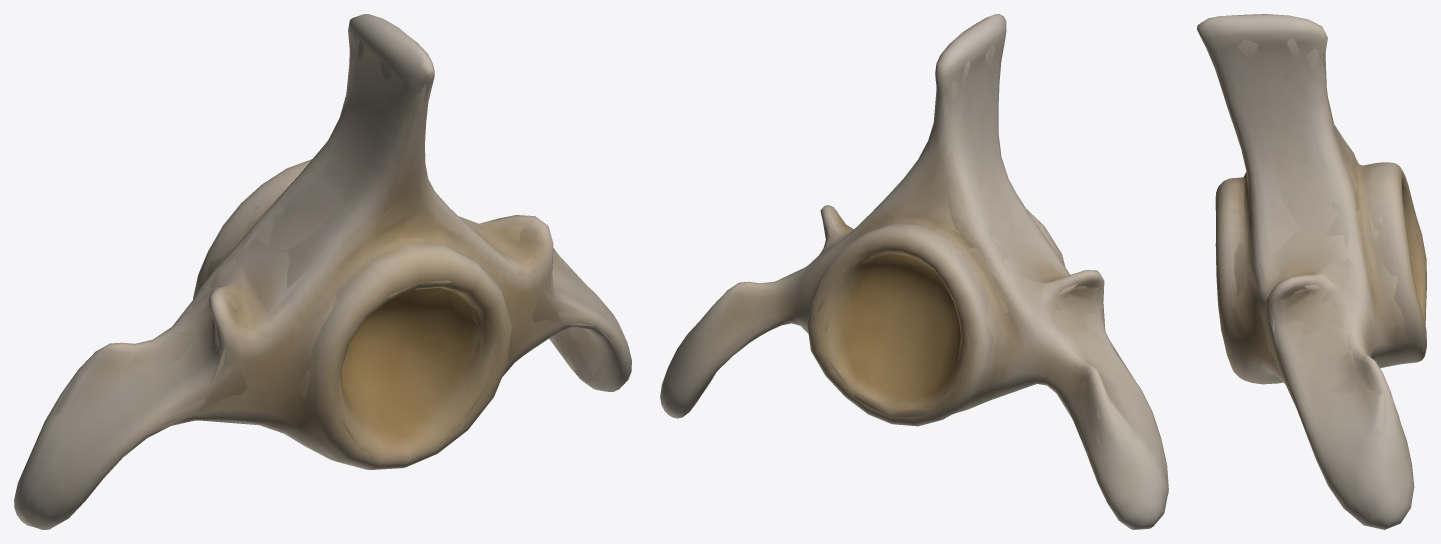
File: vertebrae lumbales 1.fbx
3 renders of one model, left to right at view 1: azimuth 30°, elevation 25°; view 2: azimuth 150°, elevation 25°; view 3: azimuth 270°, elevation 25°, orthographic. The views are drawn at different scales.
Parts seen in each view (by area): view 1: vertebrae lumbales 1, vertebrae lumbales 1 low; view 2: vertebrae lumbales 1, vertebrae lumbales 1 low; view 3: vertebrae lumbales 1, vertebrae lumbales 1 low.
Boxes of the visible parts, x1,y1,x2,y2 form: vertebrae lumbales 1: [14, 14, 631, 529]; vertebrae lumbales 1 low: [54, 40, 615, 469]; vertebrae lumbales 1: [660, 14, 1168, 529]; vertebrae lumbales 1 low: [682, 43, 1134, 468]; vertebrae lumbales 1: [1197, 14, 1426, 529]; vertebrae lumbales 1 low: [1204, 38, 1425, 457].
Size of the model in its own units: 7.28 by 5.56 by 2.9.
Materials: 1 (1 with a texture image).
